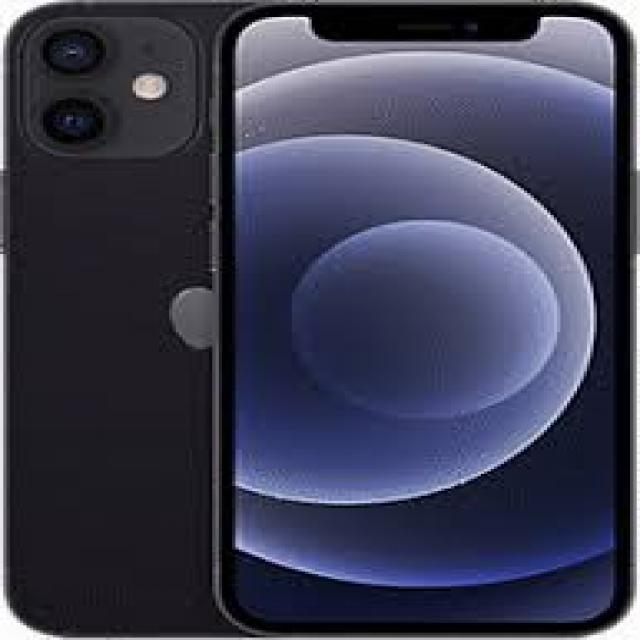phone: (208, 4, 640, 640)
